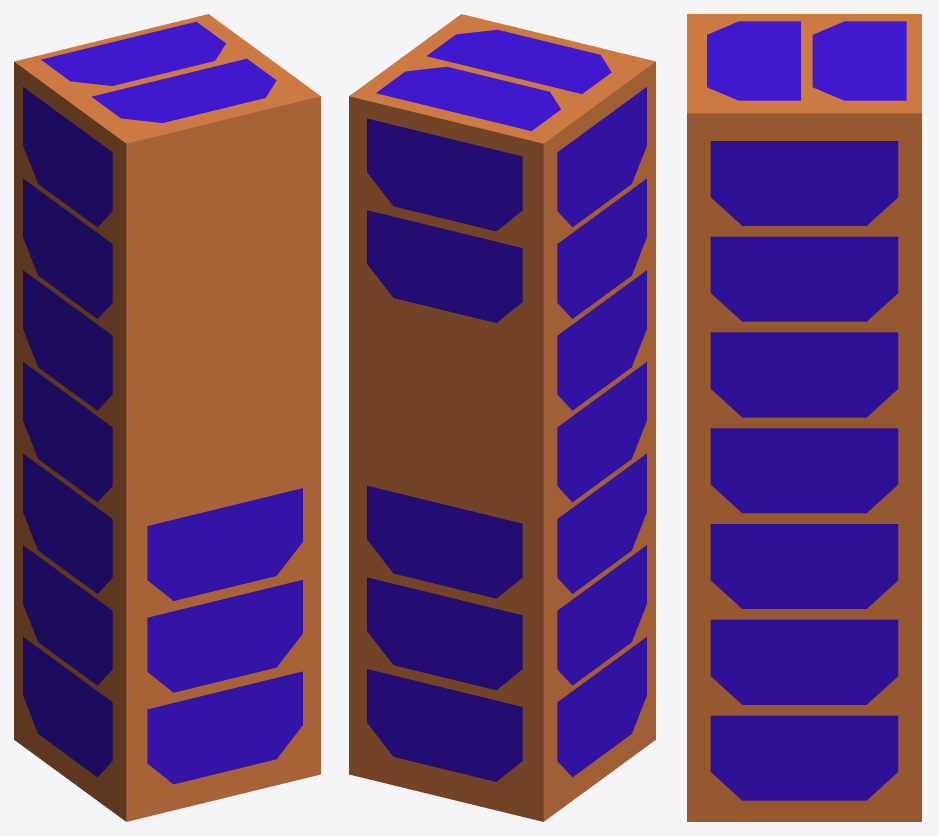
Rendered from 3UCube.gltf.
3 renders of one model, left to right at view 1: azimuth 30°, elevation 25°; view 2: azimuth 150°, elevation 25°; view 3: azimuth 270°, elevation 25°, orthographic. The views are drawn at different scales.
Visible parts, largest first — view 1: Minus-Y, Minus-X_Cells, Minus-Y_Cells, Minus-X, Plus-Z_Cells, Plus-Z; view 2: Plus-Y, Plus-Y_Cells, Minus-X_Cells, Minus-X, Plus-Z_Cells, Plus-Z; view 3: Plus-X_Cells, Plus-X, Plus-Z_Cells, Plus-Z.
Part boxes in pixels (left/top/right/bottom): Minus-Y: left=126, top=96, right=320, bottom=821; Minus-X_Cells: left=23, top=87, right=112, bottom=776; Minus-Y_Cells: left=147, top=488, right=302, bottom=784; Minus-X: left=14, top=62, right=126, bottom=821; Plus-Z_Cells: left=41, top=21, right=276, bottom=122; Plus-Z: left=14, top=14, right=320, bottom=143; Plus-Y: left=349, top=96, right=543, bottom=821; Plus-Y_Cells: left=367, top=118, right=522, bottom=781; Minus-X_Cells: left=557, top=87, right=646, bottom=776; Minus-X: left=543, top=62, right=655, bottom=821; Plus-Z_Cells: left=376, top=29, right=611, bottom=130; Plus-Z: left=349, top=14, right=655, bottom=143; Plus-X_Cells: left=710, top=141, right=898, bottom=800; Plus-X: left=687, top=113, right=921, bottom=821; Plus-Z_Cells: left=707, top=21, right=906, bottom=100; Plus-Z: left=687, top=14, right=921, bottom=113.
Size of the model in its own units: 0.1024 by 0.3354 by 0.1024.
